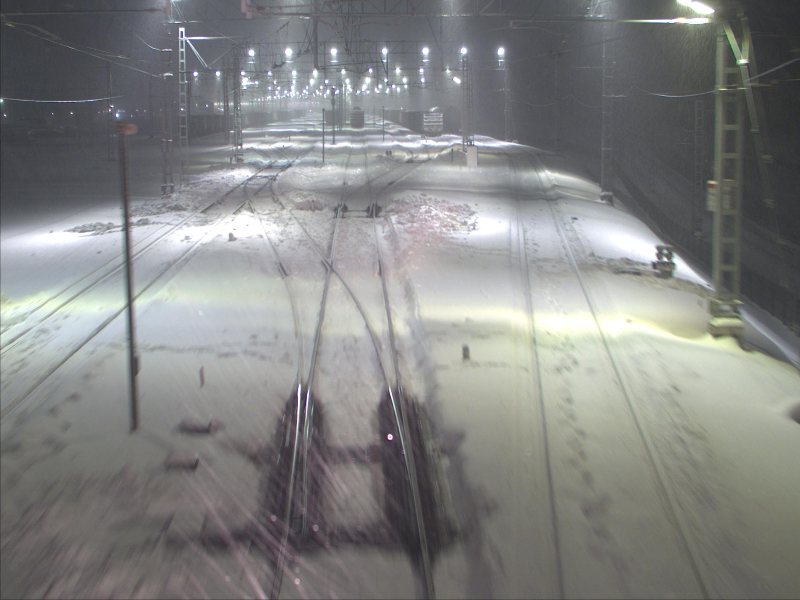left: (279, 245, 429, 543)
right: (337, 178, 377, 219)
